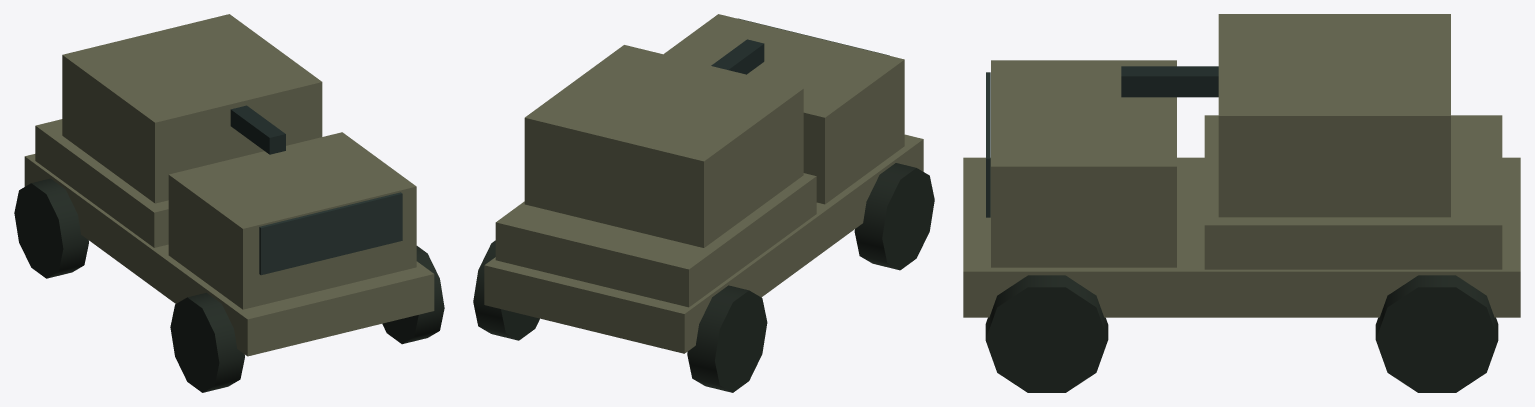
Rendered from assault.glb.
3 views of the same model, side by side, from view 1: azimuth 30°, elevation 25°; view 2: azimuth 150°, elevation 25°; view 3: azimuth 270°, elevation 25° (orthographic). The views are drawn at different scales.
Visible parts, largest first — view 1: assault; view 2: assault; view 3: assault.
Boxes of the visible parts, x1,y1,x2,y2 form: assault: (14, 14, 444, 392); assault: (473, 14, 934, 392); assault: (963, 14, 1520, 392).
Size of the model in its own units: 3.5 by 3.08 by 6.
